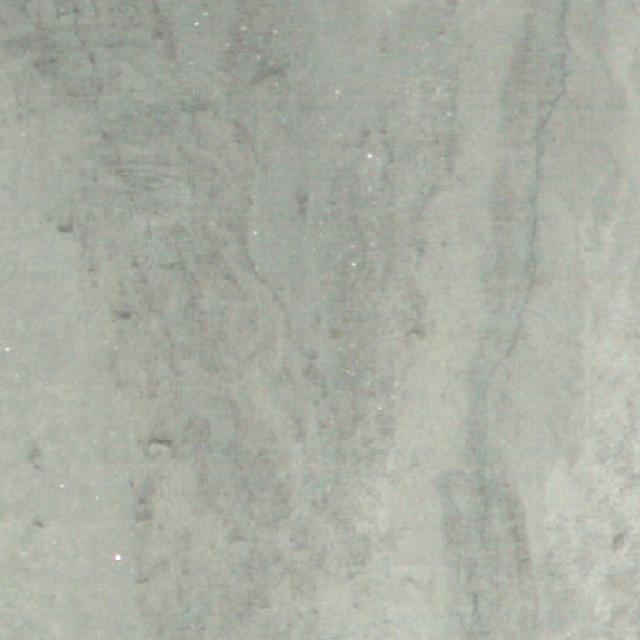Longitudinal: (442, 0, 612, 640)
